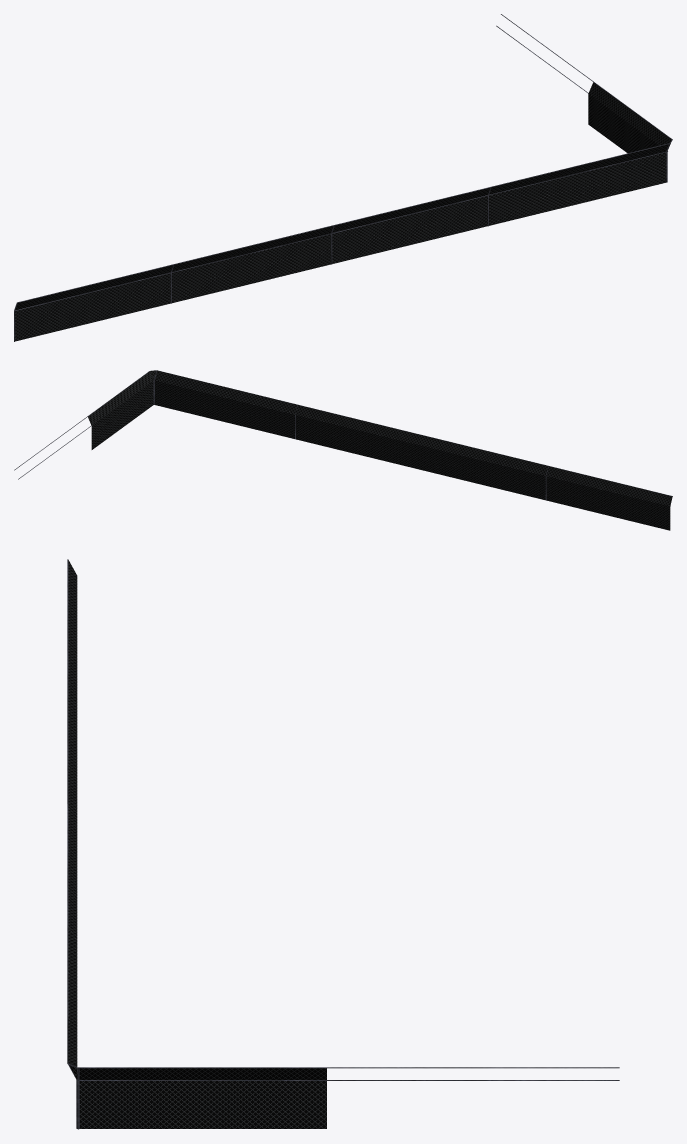
The model's file is M10_Z1_ChainFence02A.glb.
3 views of the same model, one above another, from view 1: azimuth 30°, elevation 25°; view 2: azimuth 150°, elevation 25°; view 3: azimuth 270°, elevation 25° (orthographic). The views are drawn at different scales.
Visible parts, largest first — view 1: M10_Z1_CHAINFENCE02A; view 2: M10_Z1_CHAINFENCE02A; view 3: M10_Z1_CHAINFENCE02A.
Part boxes in pixels (x1,y1,x2,y2): M10_Z1_CHAINFENCE02A: [14, 14, 672, 341]; M10_Z1_CHAINFENCE02A: [14, 370, 672, 530]; M10_Z1_CHAINFENCE02A: [67, 559, 619, 1129].
Size of the model in its own units: 16.62 by 1 by 7.64.
Materials: 2 (2 with a texture image).
